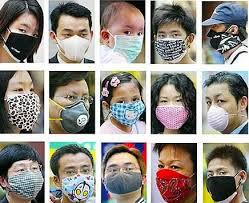OK: (8, 84, 41, 131), (6, 22, 44, 60), (56, 91, 92, 131), (158, 158, 191, 200), (109, 23, 144, 61), (205, 95, 242, 130), (61, 165, 96, 202), (11, 164, 45, 200), (156, 95, 190, 129), (208, 166, 242, 200), (59, 25, 91, 61), (111, 93, 143, 127), (209, 23, 241, 55), (156, 30, 186, 60)
WRONG: (105, 164, 143, 198)
